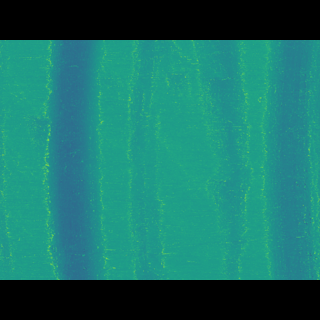Loch: (42, 68, 114, 250), (193, 69, 254, 250), (260, 69, 320, 250), (130, 70, 167, 251)
